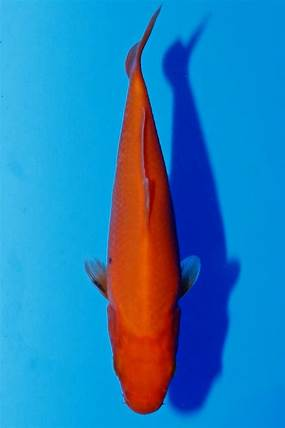red: (82, 5, 204, 413)
